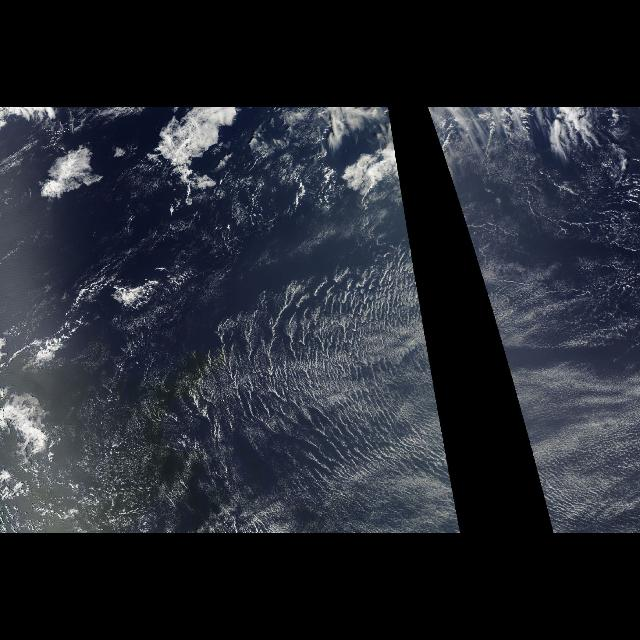Sugar: (213, 242, 462, 528), (472, 242, 634, 528)
